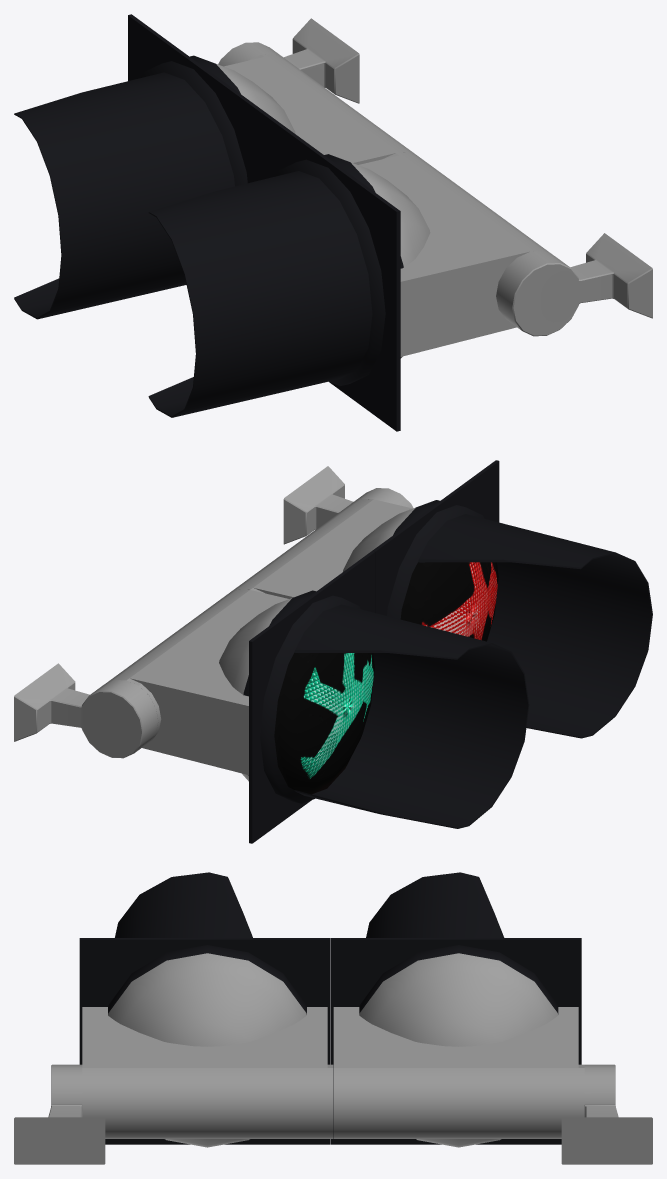
The model's file is Fussgaengerampel_rot_gruen_Mast.obj.
3 views of the same model, one above another, from view 1: azimuth 30°, elevation 25°; view 2: azimuth 150°, elevation 25°; view 3: azimuth 270°, elevation 25° (orthographic). The views are drawn at different scales.
Visible parts, largest first — view 1: Sonnenblende.002_Cylinder.002, Sonnenblende.001_Cylinder.002, Cube.002_Cube.001, Masthalterung_Cylinder.004, Blende.002_Cube.004, Cube.001, BezierCurve.020, Blende.001_Cube.004, Masthalterung.001_Cylinder.004, BezierCurve.018; view 2: Sonnenblende.001_Cylinder.002, Sonnenblende.002_Cylinder.002, BezierCurve.018, Cube.001, BezierCurve.020, Masthalterung.001_Cylinder.004, Blende.001_Cube.004, Cube.002_Cube.001, Blende.002_Cube.004, Masthalterung_Cylinder.004; view 3: Cube.001, Cube.002_Cube.001, BezierCurve.018, BezierCurve.020, Blende.001_Cube.004, Blende.002_Cube.004, Sonnenblende.001_Cylinder.002, Sonnenblende.002_Cylinder.002, Masthalterung.001_Cylinder.004, Masthalterung_Cylinder.004.
Boxes of the visible parts, x1,y1,x2,y2 form: Sonnenblende.002_Cylinder.002: [148, 171, 372, 417]; Sonnenblende.001_Cylinder.002: [14, 72, 234, 319]; Cube.002_Cube.001: [358, 152, 553, 356]; Masthalterung_Cylinder.004: [496, 233, 652, 336]; Blende.002_Cube.004: [262, 113, 400, 431]; Cube.001: [224, 54, 419, 164]; BezierCurve.020: [275, 154, 430, 385]; Blende.001_Cube.004: [128, 14, 265, 183]; Masthalterung.001_Cylinder.004: [218, 18, 359, 103]; BezierCurve.018: [140, 55, 295, 186]; Sonnenblende.001_Cylinder.002: [294, 604, 529, 828]; Sonnenblende.002_Cylinder.002: [418, 514, 652, 738]; BezierCurve.018: [219, 590, 374, 803]; Cube.001: [105, 589, 288, 774]; BezierCurve.020: [343, 500, 498, 641]; Masthalterung.001_Cylinder.004: [14, 663, 158, 758]; Blende.001_Cube.004: [249, 550, 375, 843]; Cube.002_Cube.001: [229, 499, 412, 598]; Blende.002_Cube.004: [373, 460, 499, 615]; Masthalterung_Cylinder.004: [283, 466, 413, 544]; Cube.001: [333, 1007, 584, 1138]; Cube.002_Cube.001: [82, 1007, 333, 1138]; BezierCurve.018: [359, 945, 558, 1147]; BezierCurve.020: [108, 945, 306, 1147]; Blende.001_Cube.004: [330, 938, 581, 1144]; Blende.002_Cube.004: [79, 938, 330, 1144]; Sonnenblende.001_Cylinder.002: [366, 872, 504, 937]; Sonnenblende.002_Cylinder.002: [115, 872, 252, 937]; Masthalterung.001_Cylinder.004: [561, 1064, 652, 1164]; Masthalterung_Cylinder.004: [14, 1064, 105, 1164].
Bounding box in the file's own units: 0.4823 × 0.2502 × 0.7067.
4 materials, 4 textured.
